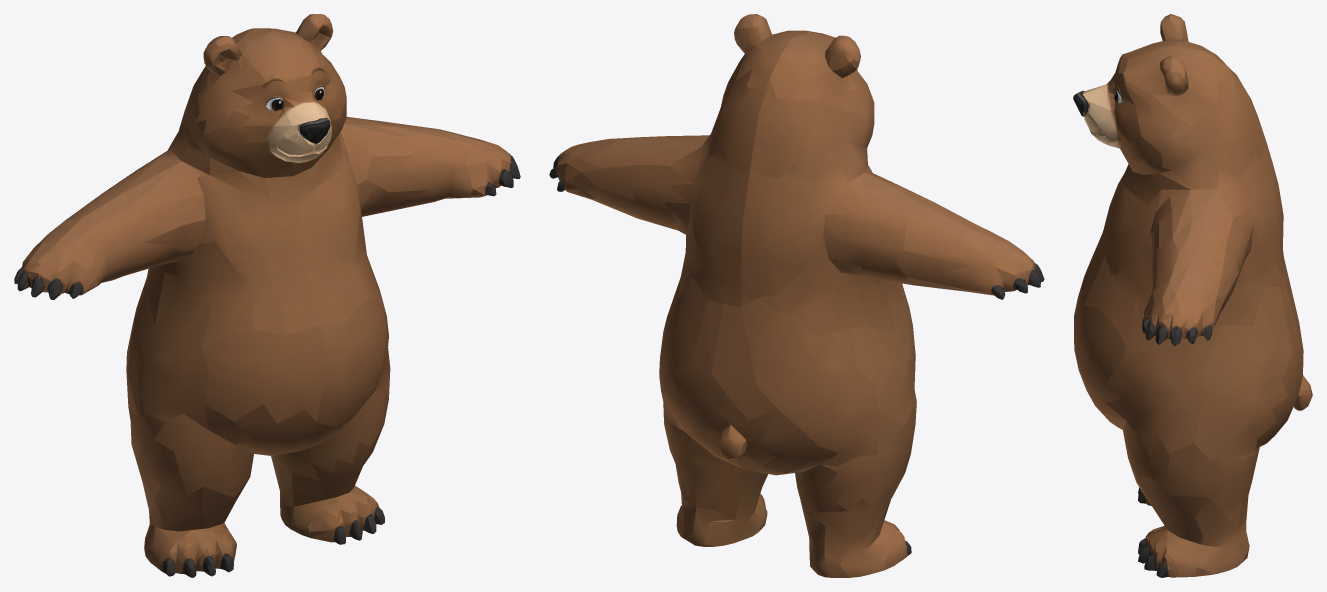
File: bear-tpose.glb
The picture shows the model from 3 angles, left to right: view 1: azimuth 30°, elevation 25°; view 2: azimuth 150°, elevation 25°; view 3: azimuth 270°, elevation 25°; orthographic projection. The views are drawn at different scales.
Visible parts, largest first — view 1: output_unwrapped; view 2: output_unwrapped; view 3: output_unwrapped.
Boxes of the visible parts, box(x1,y1,x2,y2) form: output_unwrapped: box(14, 14, 520, 577); output_unwrapped: box(549, 14, 1044, 577); output_unwrapped: box(1073, 14, 1312, 577).
Size of the model in its own units: 1.9 by 1.89 by 0.8359.
Materials: 1 (1 with a texture image).
